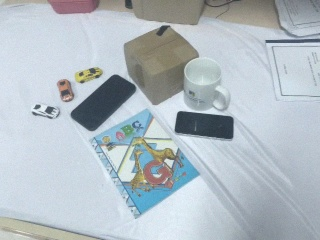book: (92, 105, 204, 223)
box: (123, 24, 201, 105), (125, 1, 208, 26)
cup: (181, 56, 232, 114)
phone: (71, 73, 137, 132), (174, 110, 235, 142)
toy_car: (31, 103, 61, 119), (75, 66, 103, 83), (57, 79, 74, 102)
